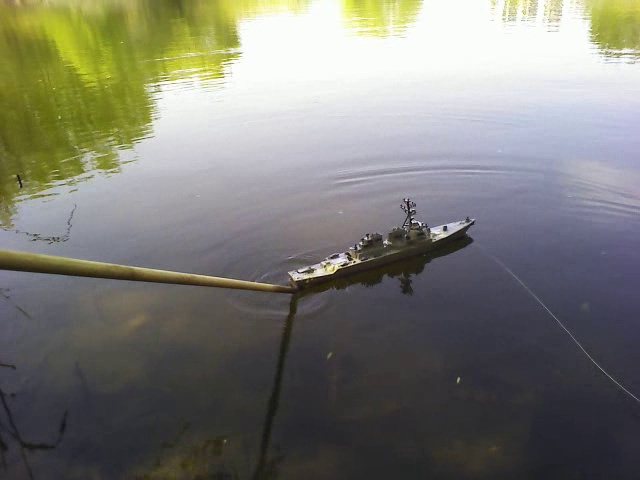warship: (283, 189, 485, 285)
